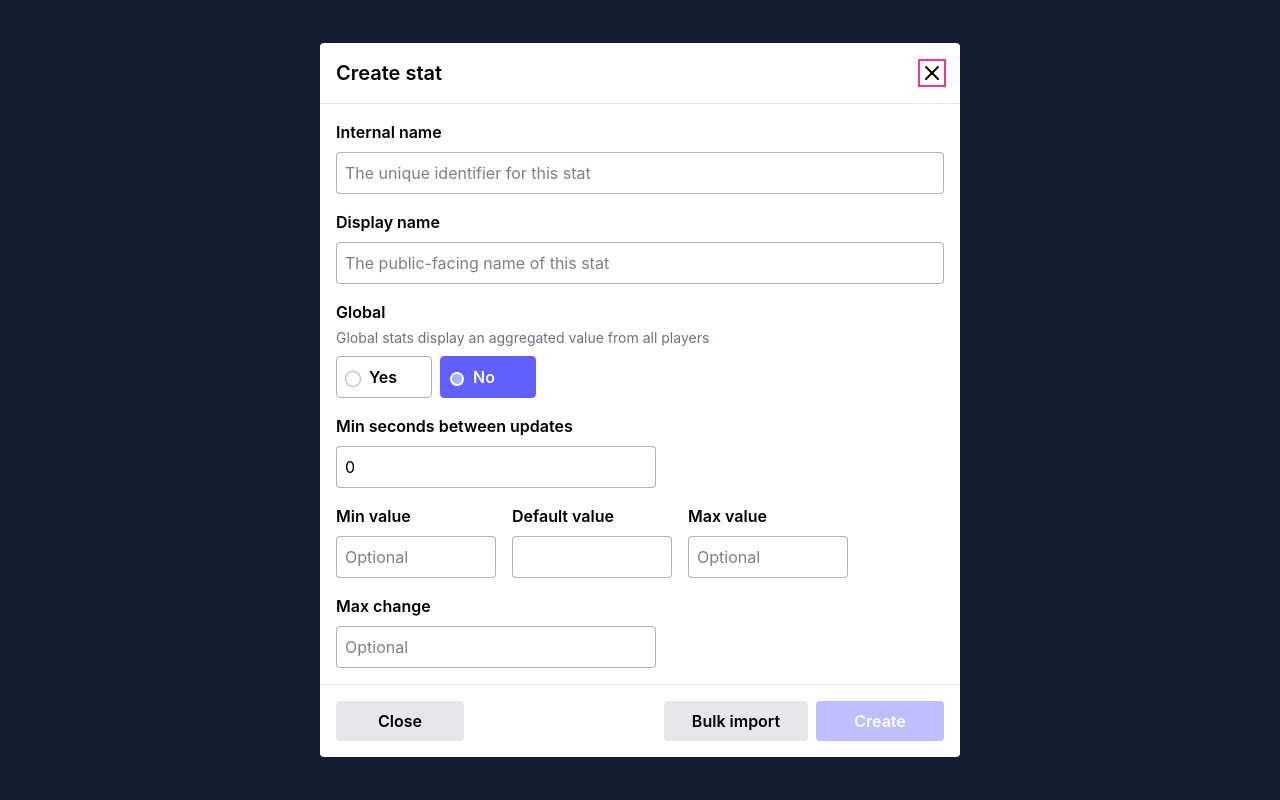
Test: <StatDetails /> › should display an error if the default value is more than the max value
The image size is (1280, 800).
Type "52" into the number field labelled "Max value" at coordinates (768, 557), box [688, 536, 848, 578]
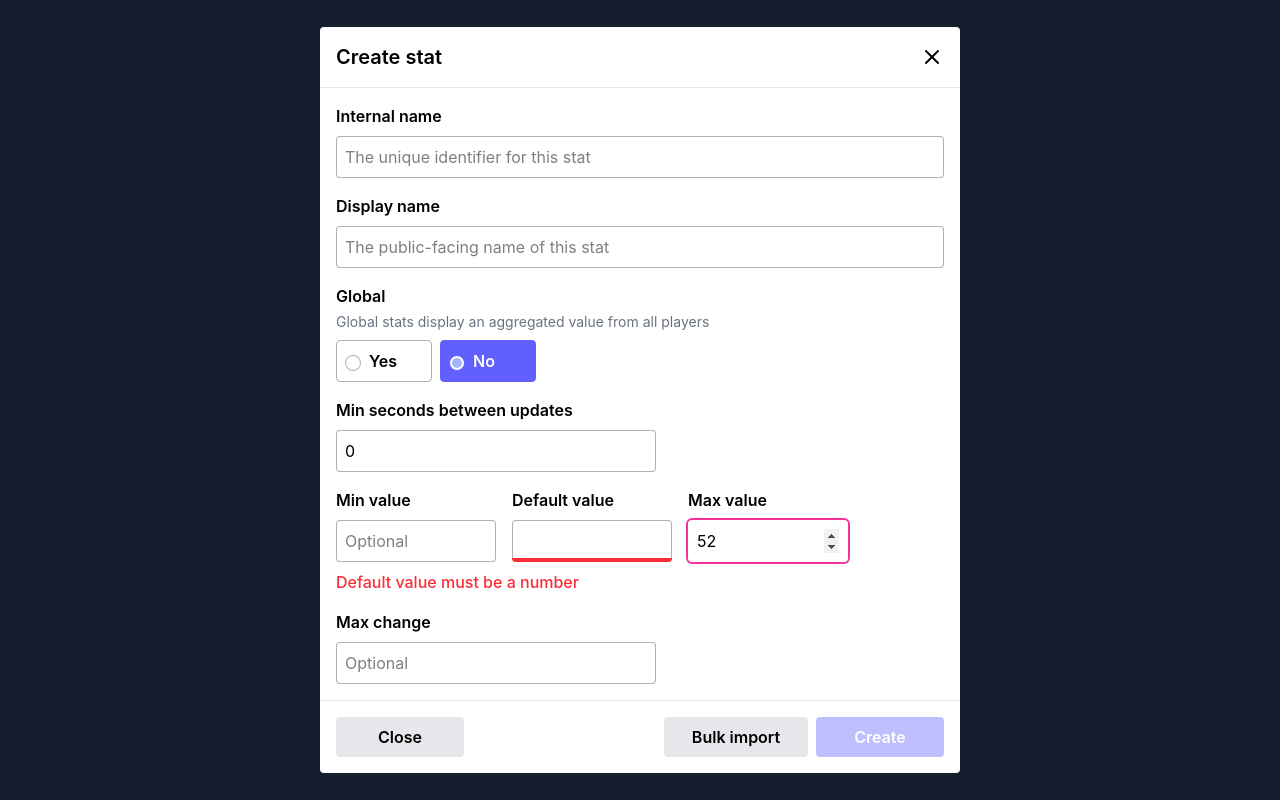
Type "60" into the number field labelled "Default value" at coordinates (592, 541), box [512, 520, 672, 562]
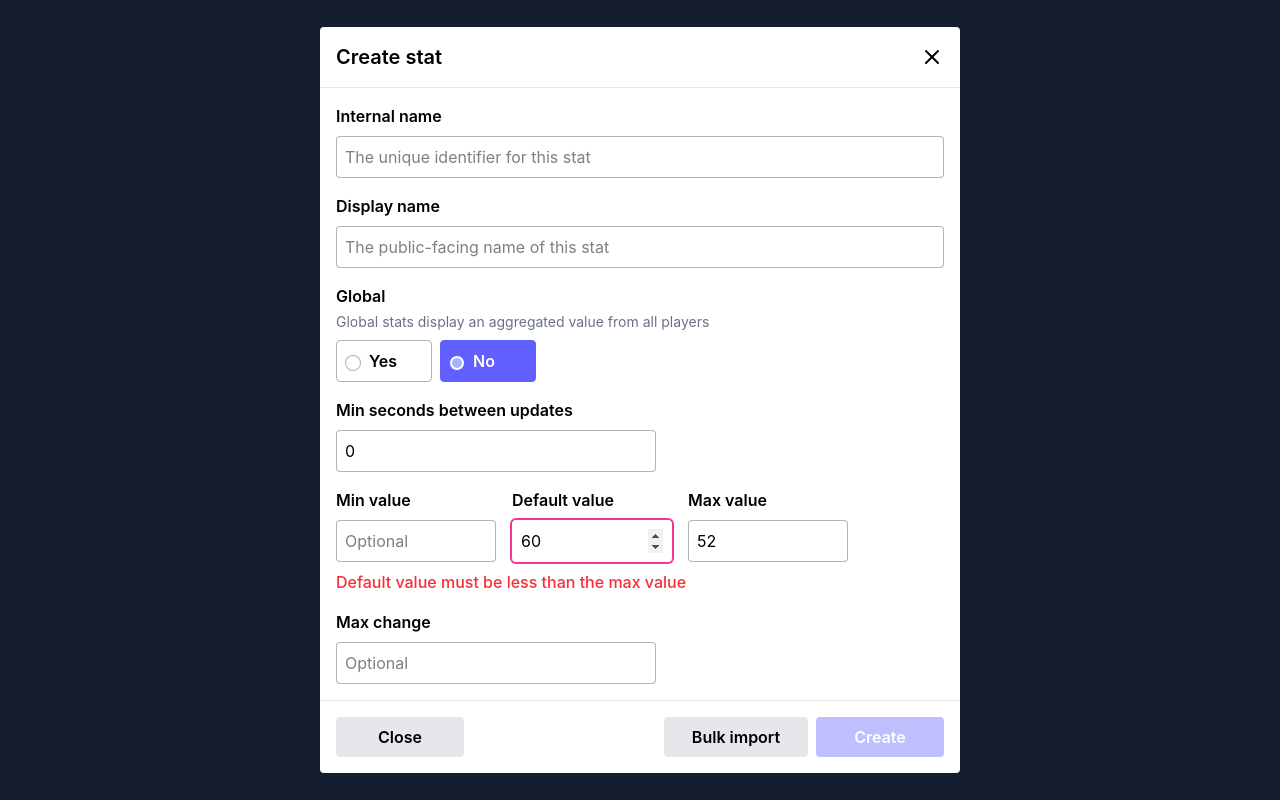
Result: the text "Default value must be less than the max value" is shown at [336, 572, 686, 592]
